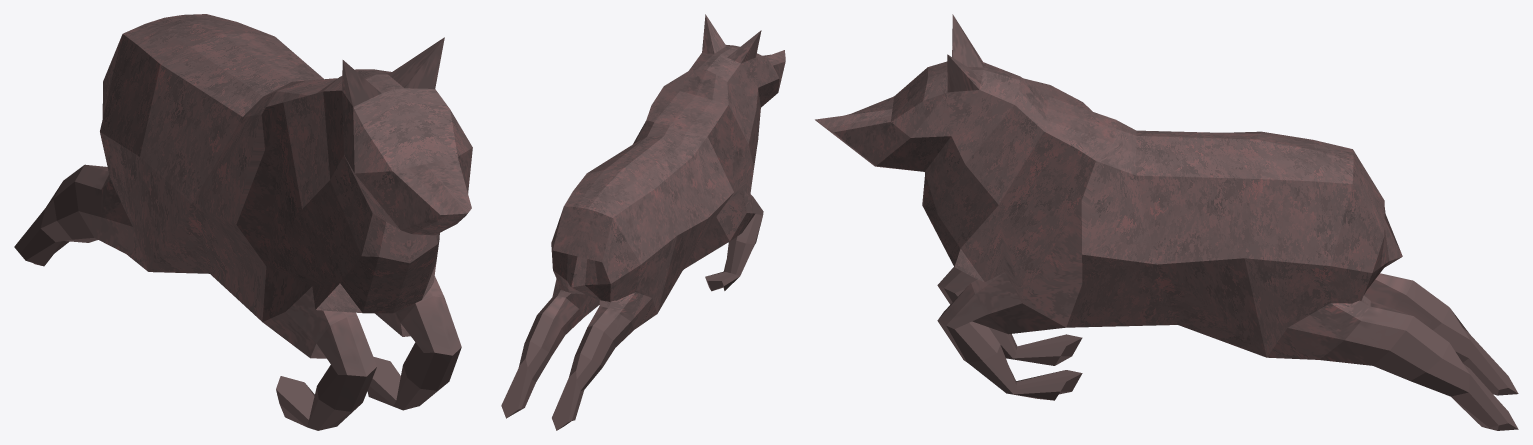
File: piesblendtex_000016.obj
3 renders of one model, left to right at view 1: azimuth 30°, elevation 25°; view 2: azimuth 150°, elevation 25°; view 3: azimuth 270°, elevation 25°, orthographic. The views are drawn at different scales.
Parts seen in each view (by area): view 1: Cube; view 2: Cube; view 3: Cube.
Boxes of the visible parts, x1=… form: Cube: x1=14, y1=14, x2=472, y2=430; Cube: x1=501, y1=14, x2=785, y2=430; Cube: x1=815, y1=14, x2=1518, y2=430.
Size of the model in its own units: 2.56 by 6.2 by 10.53.
